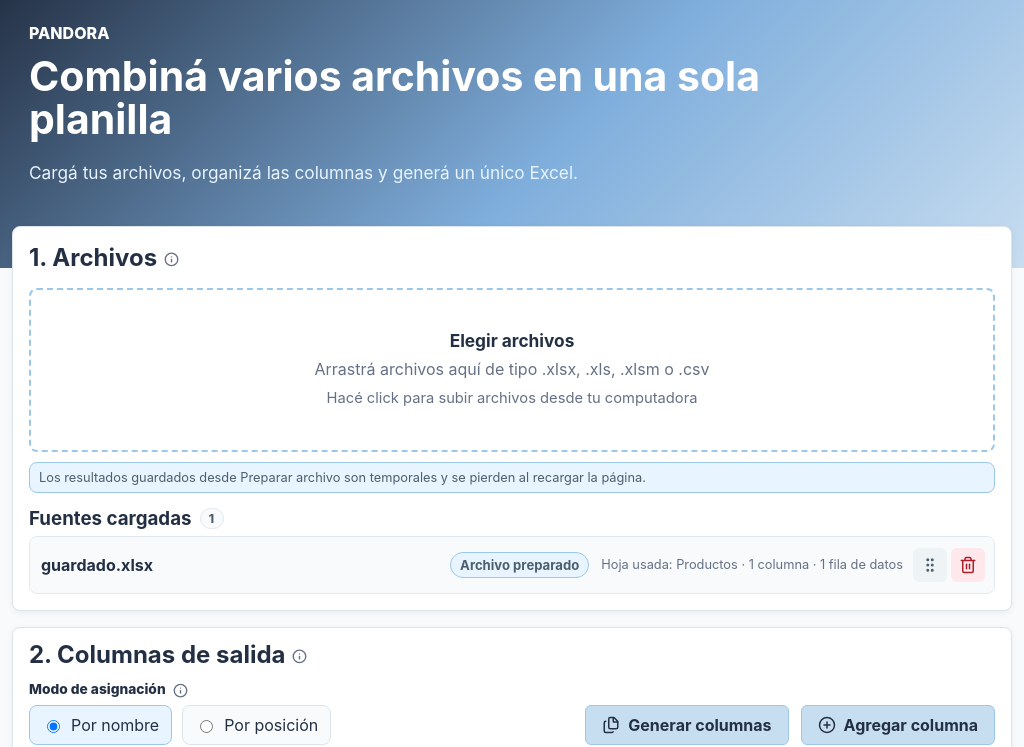
Test: CombineWizard basket sources › numbers mapping, preview and export after output columns are initialized
Click the button "Generar columnas": (687, 725) [585,705,789,745]
(page scrolled)
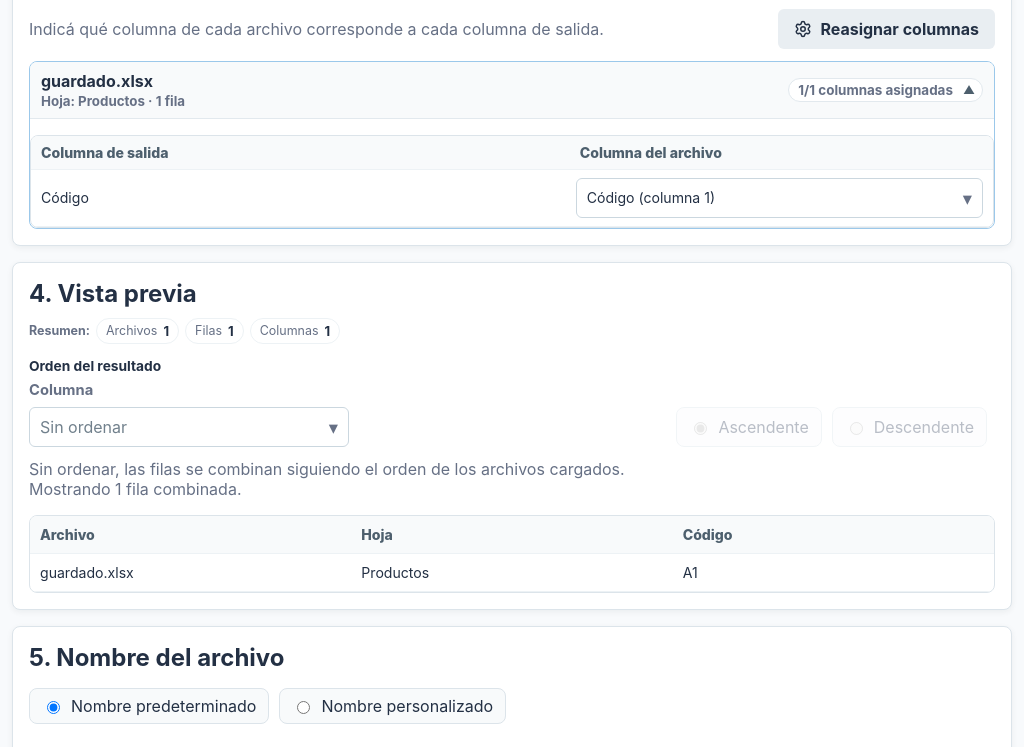
Expected: the heading "4. Vista previa" is shown, [29,279,197,308]
Expected: the heading "5. Nombre del archivo" is shown, [29,643,284,672]
Expected: the heading "Orden del resultado" is shown, [29,358,161,374]
